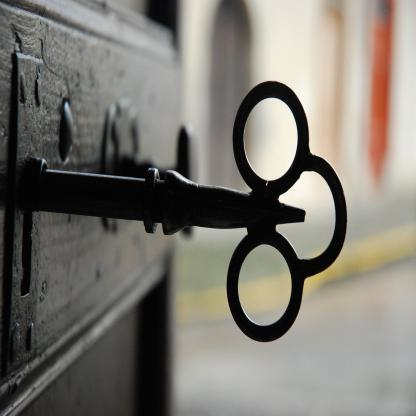keys: (27, 76, 346, 346)
